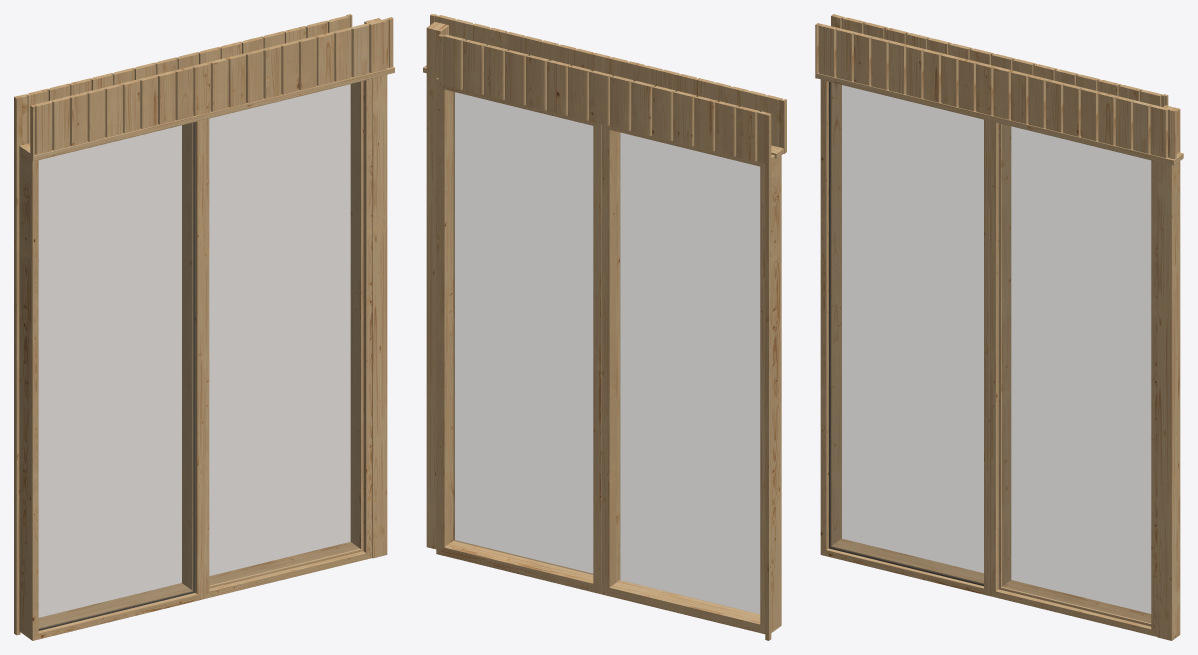
The model's file is Roundy_Sein_Ees.glb.
3 renders of one model, left to right at view 1: azimuth 30°, elevation 25°; view 2: azimuth 150°, elevation 25°; view 3: azimuth 330°, elevation 25°, orthographic. The views are drawn at different scales.
Parts seen in each view (by area): view 1: Roundy Klaas_001, Roundy Klaas_002, Rectangle818, Rectangle836, Rectangle817, Rectangle837, Box2131641145, Box2131641146, Rectangle827; view 2: Roundy Klaas_002, Roundy Klaas_001, Rectangle837, Rectangle818, Rectangle817, Rectangle836, Box2131641145; view 3: Roundy Klaas_001, Roundy Klaas_002, Rectangle836, Rectangle817, Rectangle818, Box2131641145, Rectangle837, Box2131641146, Rectangle827.
Part boxes in pixels (x1=…): Roundy Klaas_001: x1=39, y1=122, x2=194, y2=630; Roundy Klaas_002: x1=209, y1=82, x2=359, y2=584; Rectangle818: x1=19, y1=119, x2=203, y2=640; Rectangle836: x1=30, y1=17, x2=393, y2=161; Rectangle817: x1=203, y1=78, x2=372, y2=599; Rectangle837: x1=14, y1=14, x2=352, y2=635; Box2131641145: x1=364, y1=18, x2=387, y2=558; Box2131641146: x1=23, y1=66, x2=394, y2=160; Rectangle827: x1=38, y1=122, x2=194, y2=630; Roundy Klaas_002: x1=453, y1=92, x2=592, y2=574; Roundy Klaas_001: x1=620, y1=132, x2=759, y2=613; Rectangle837: x1=438, y1=34, x2=771, y2=640; Rectangle818: x1=601, y1=124, x2=781, y2=633; Rectangle817: x1=436, y1=78, x2=601, y2=594; Rectangle836: x1=430, y1=14, x2=786, y2=153; Box2131641145: x1=426, y1=22, x2=448, y2=549; Roundy Klaas_001: x1=829, y1=82, x2=983, y2=585; Roundy Klaas_002: x1=1002, y1=124, x2=1150, y2=622; Rectangle836: x1=815, y1=23, x2=1176, y2=159; Rectangle817: x1=990, y1=120, x2=1157, y2=636; Rectangle818: x1=820, y1=79, x2=989, y2=595; Box2131641145: x1=1157, y1=105, x2=1180, y2=640; Rectangle837: x1=831, y1=14, x2=1168, y2=106; Box2131641146: x1=815, y1=72, x2=1183, y2=165; Rectangle827: x1=829, y1=82, x2=983, y2=585.
Bounding box in the file's own units: 1.48 × 2.11 × 0.1374.
3 materials, 1 textured.
